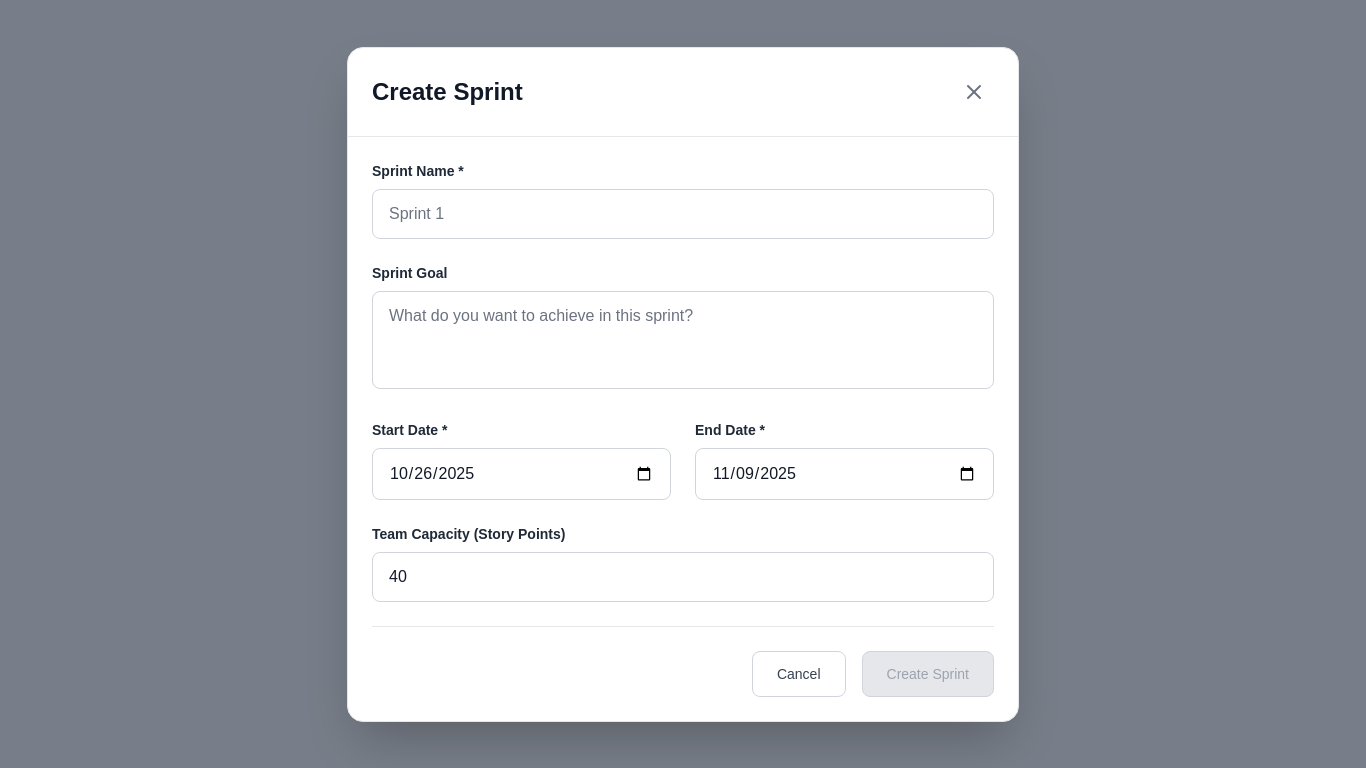
Test: SprintFormModal › Form Submission › should handle save errors
Type "Test Sprint" into the field labelled "Sprint Name *" at (683, 214), box [372,188,994,238]
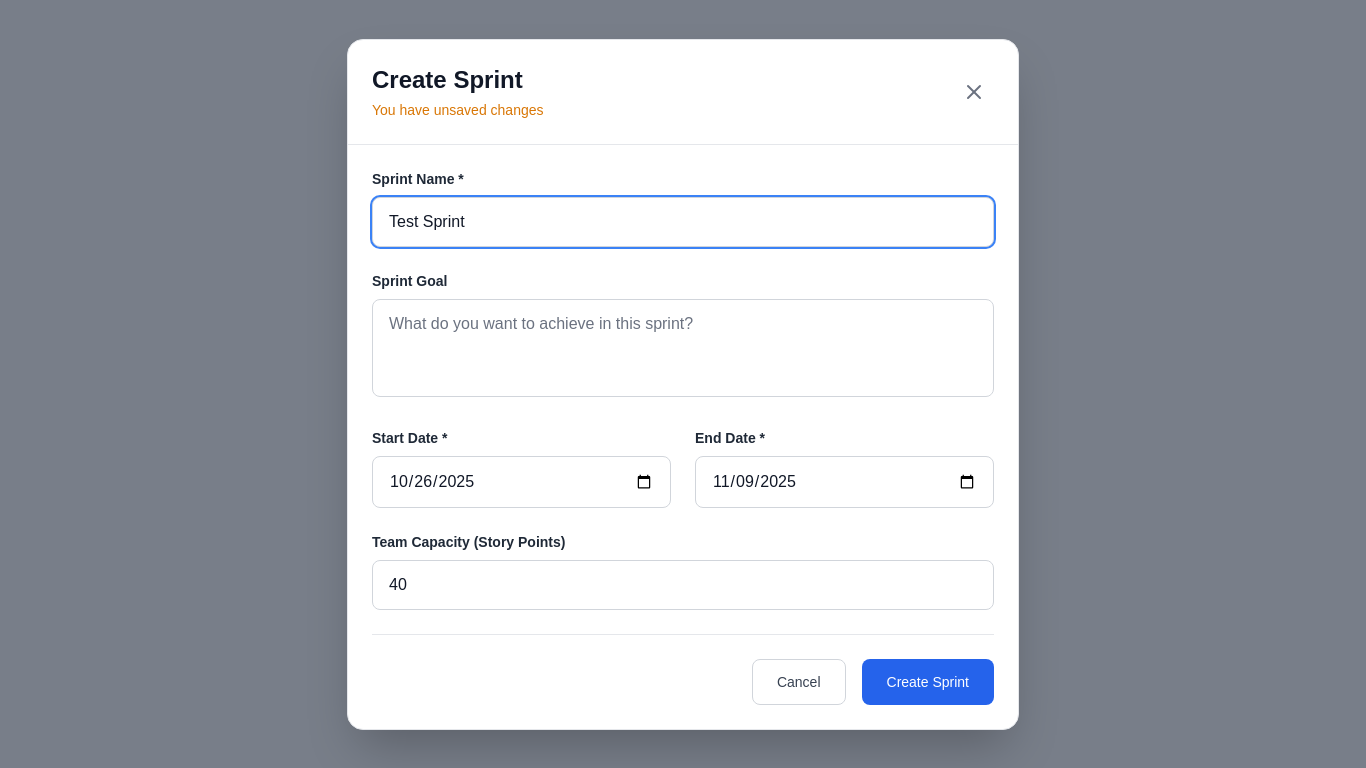
Click the button "Create Sprint" at (928, 682), box [862,658,994,704]
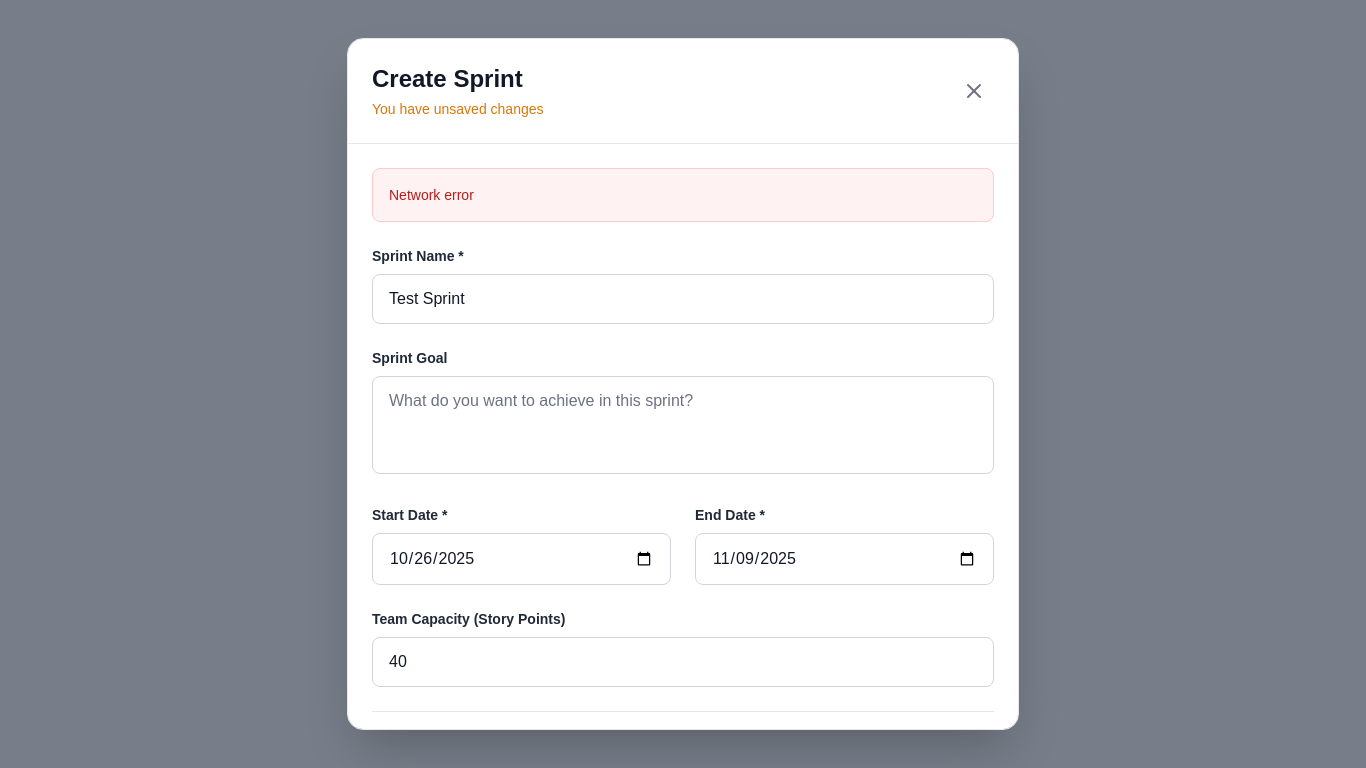
Result: the text "Network error" is shown at [389,187,474,203]
